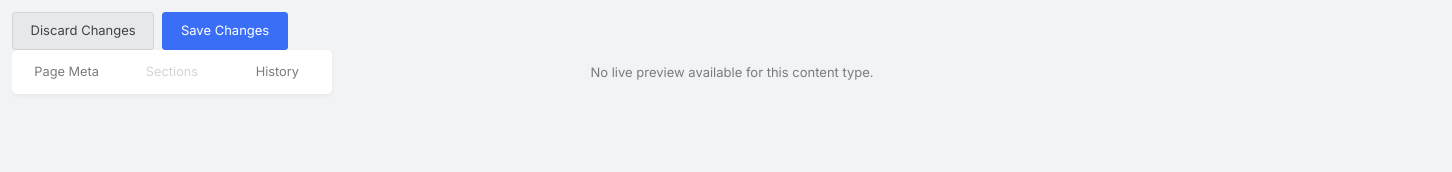
PageEditorPage › G5: a failed publish leaves the draft state untouched and shows an inline error
Check: the button "Discard Changes" is shown, box [12, 12, 154, 50]
Click the button "Save Changes".
click(225, 31)  # box [162, 12, 288, 50]
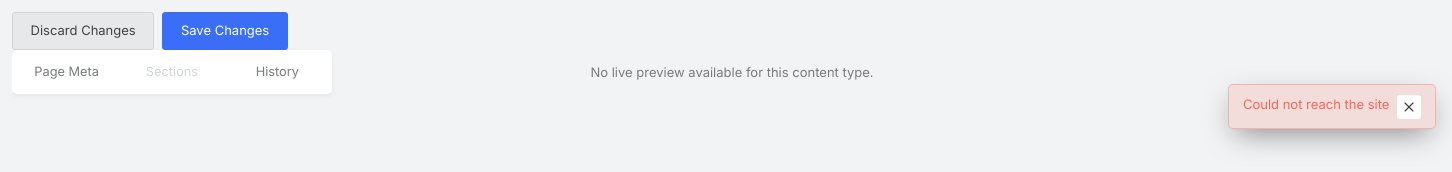
Check: the text "Could not reach the site" is shown, box [1243, 95, 1389, 114]
